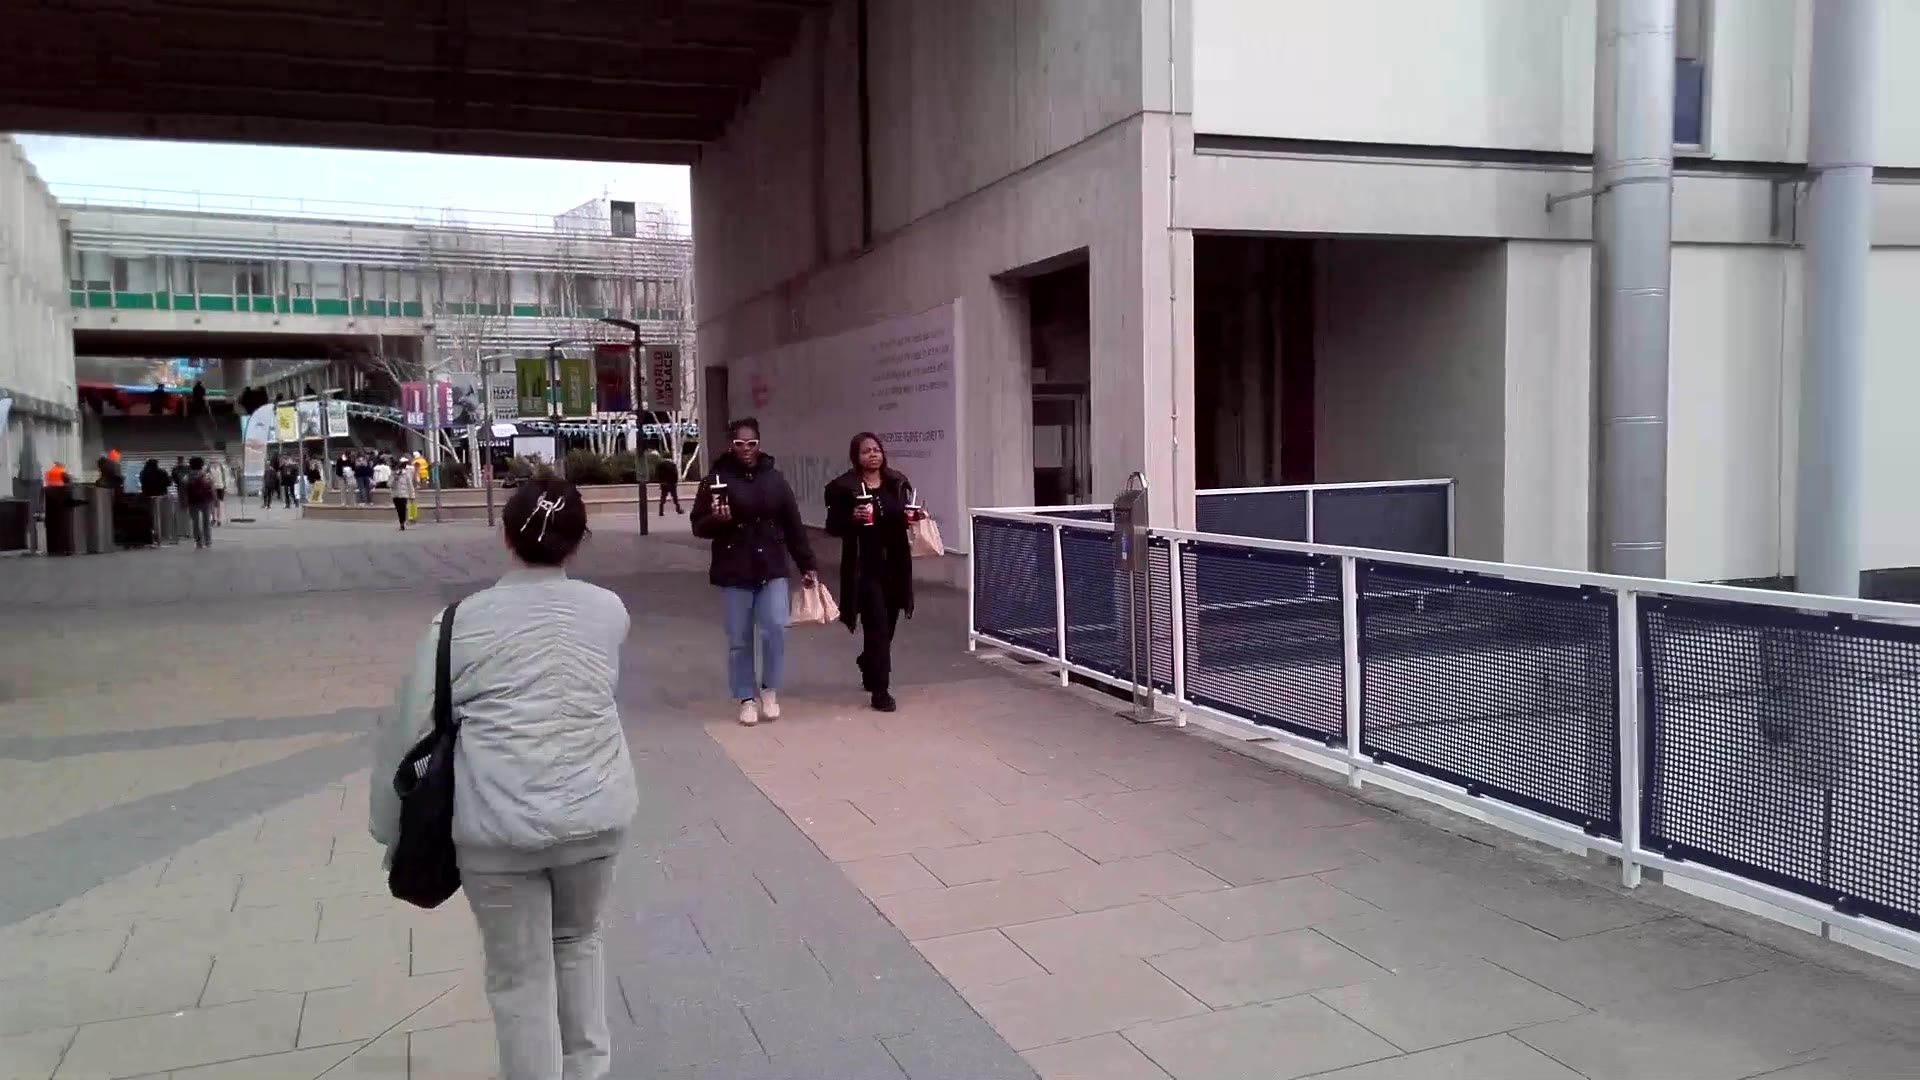Backpack: (382, 734, 478, 917)
Person: (430, 475, 632, 1080), (712, 417, 798, 725), (837, 430, 924, 713)
